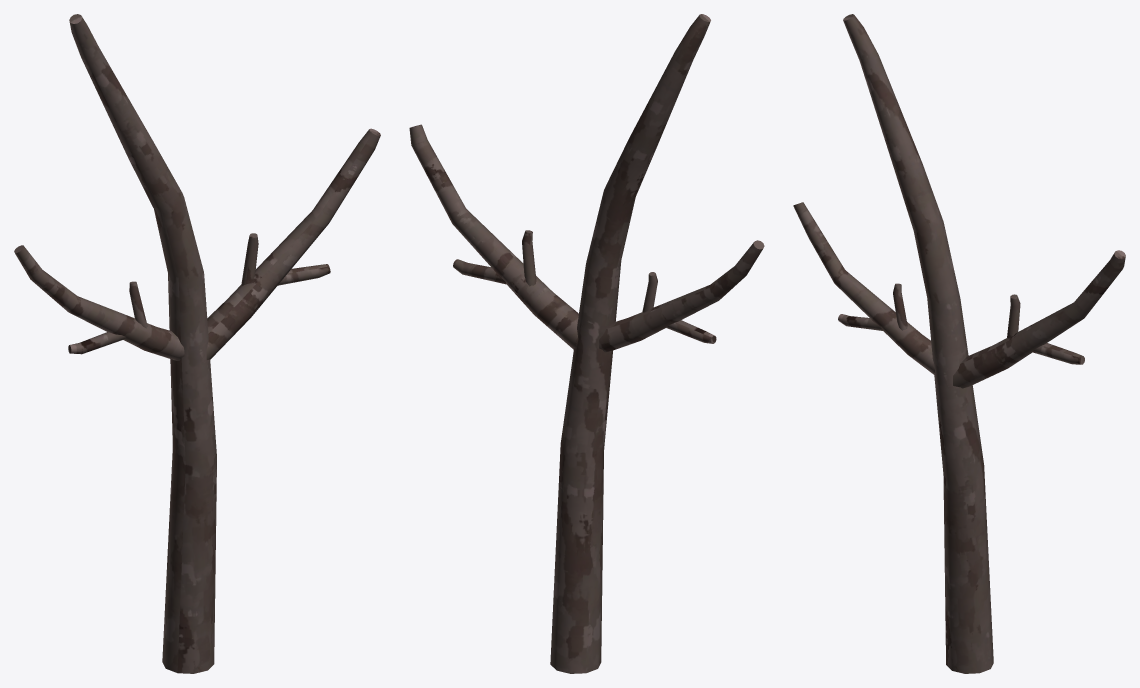
The model's file is deadtree_7.glb.
3 renders of one model, left to right at view 1: azimuth 30°, elevation 25°; view 2: azimuth 150°, elevation 25°; view 3: azimuth 330°, elevation 25°, orthographic. The views are drawn at different scales.
Visible parts, largest first — view 1: DeadTree_7; view 2: DeadTree_7; view 3: DeadTree_7.
Boxes of the visible parts, <box> form: DeadTree_7: <box>14,14,380,673</box>; DeadTree_7: <box>409,14,764,673</box>; DeadTree_7: <box>793,14,1125,673</box>.
Bounding box in the file's own units: 2.91 × 5.24 × 0.473.
Materials: 1 (1 with a texture image).
